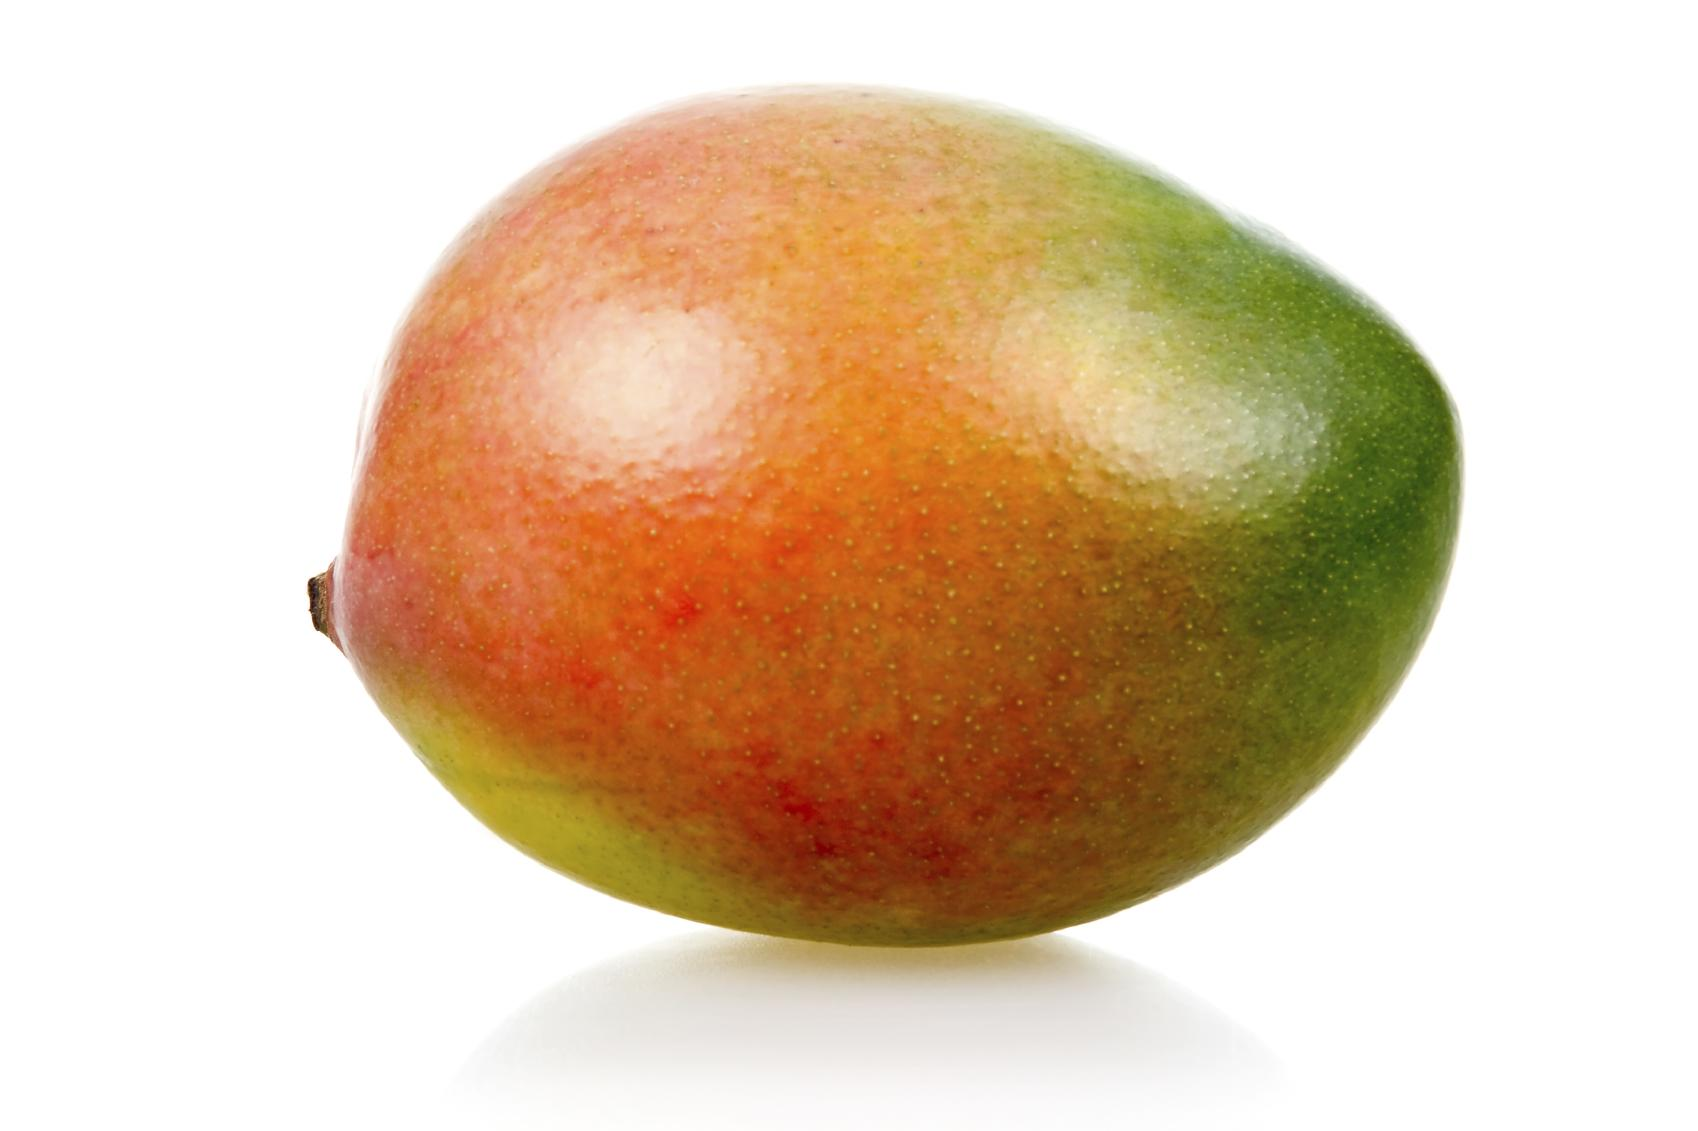mango: (290, 82, 1477, 967)
